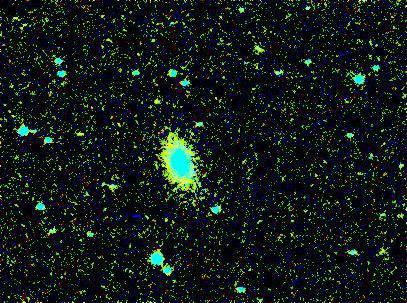star: (154, 204, 184, 234)
